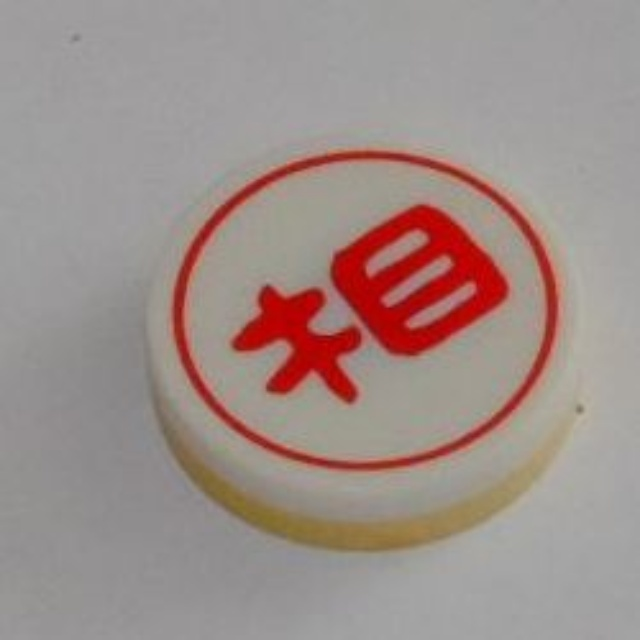red_bo: (138, 128, 593, 556)
